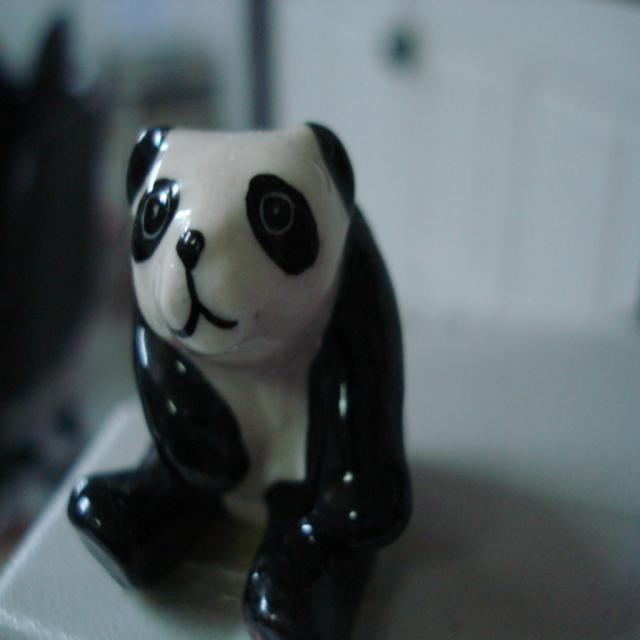panda: (67, 122, 406, 639)
